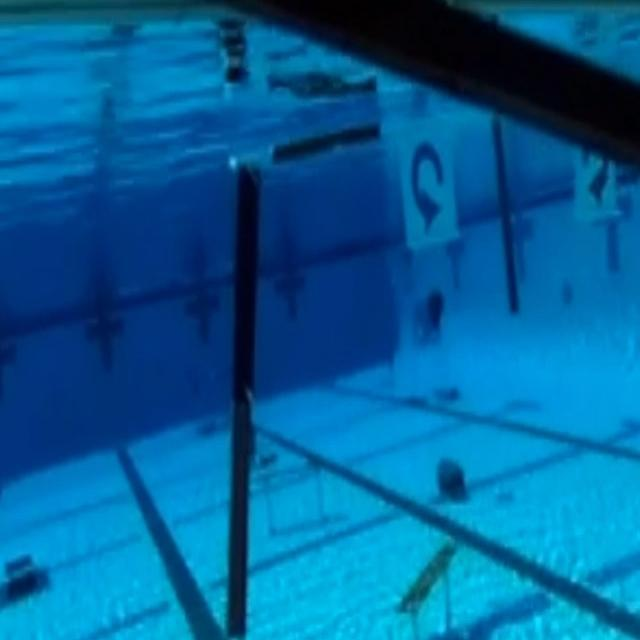Gate: (222, 147, 640, 632)
